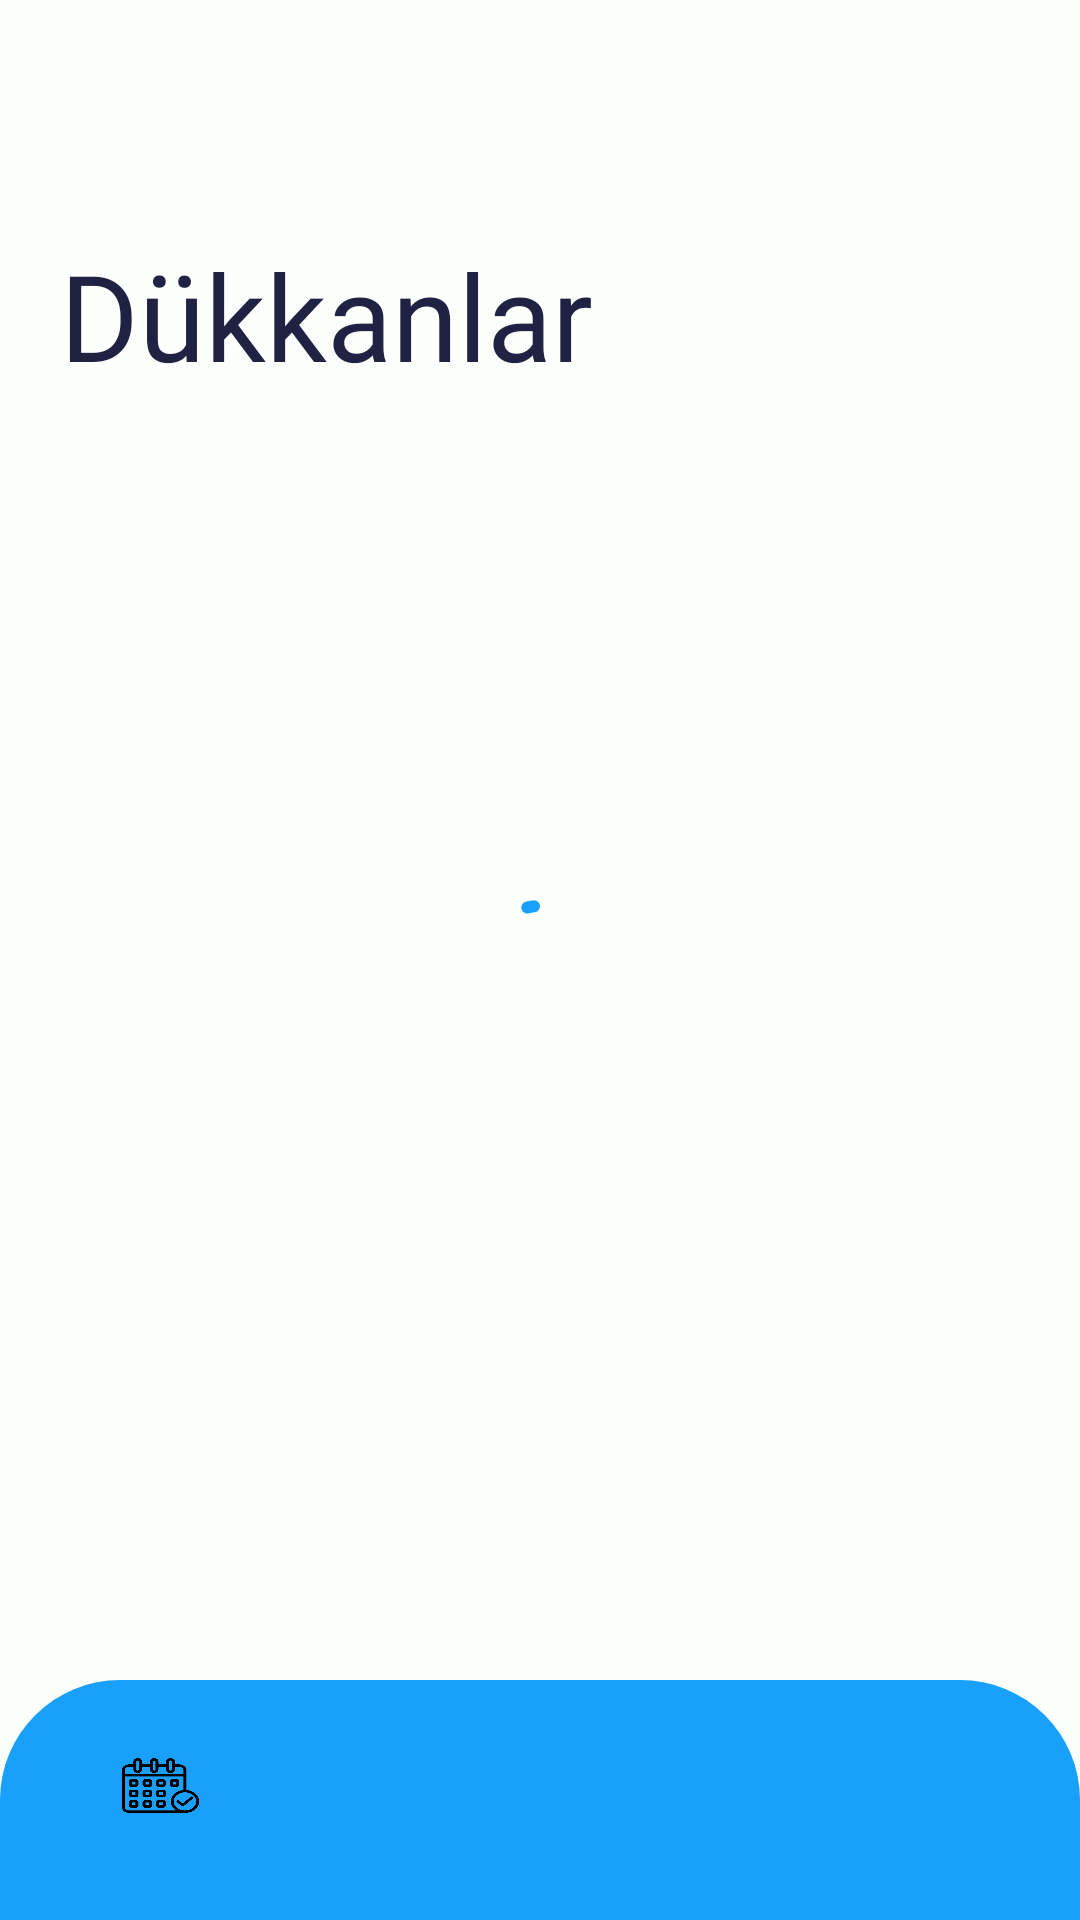

Icons on this 1080px×1920px Android screen, each with the point to tap as point (x, y):
appoinment: point (160, 1785)
